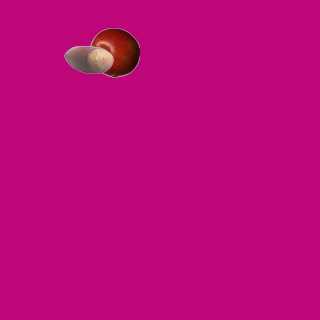Apple Braeburn: (89, 27, 139, 77)
Hazelnut: (63, 34, 113, 84)
